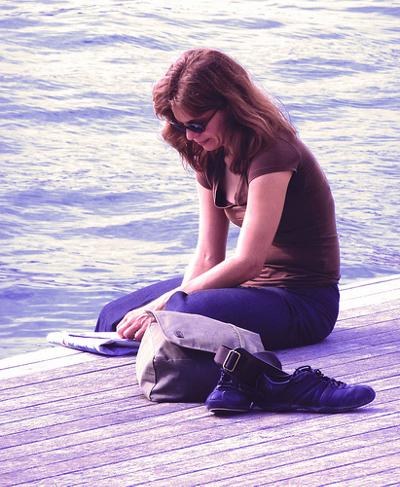person: (95, 47, 344, 354)
